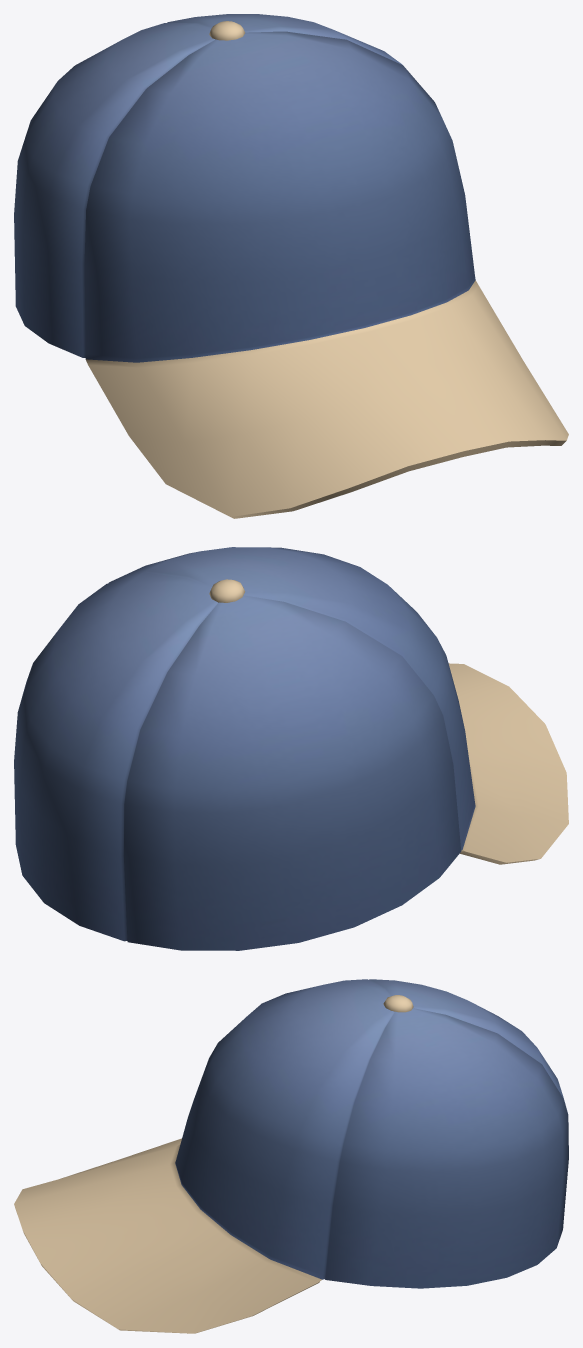
Rendered from Cap.FBX.
The picture shows the model from 3 angles, top to bottom: view 1: azimuth 30°, elevation 25°; view 2: azimuth 150°, elevation 25°; view 3: azimuth 270°, elevation 25°; orthographic projection. The views are drawn at different scales.
Visible parts, largest first — view 1: cap; view 2: cap; view 3: cap.
Part boxes in pixels (bbox=[...]): cap: bbox=[14, 14, 568, 518]; cap: bbox=[14, 547, 568, 950]; cap: bbox=[14, 979, 568, 1333].
Size of the model in its own units: 33.29 by 26.86 by 50.36.
1 material, 1 textured.
